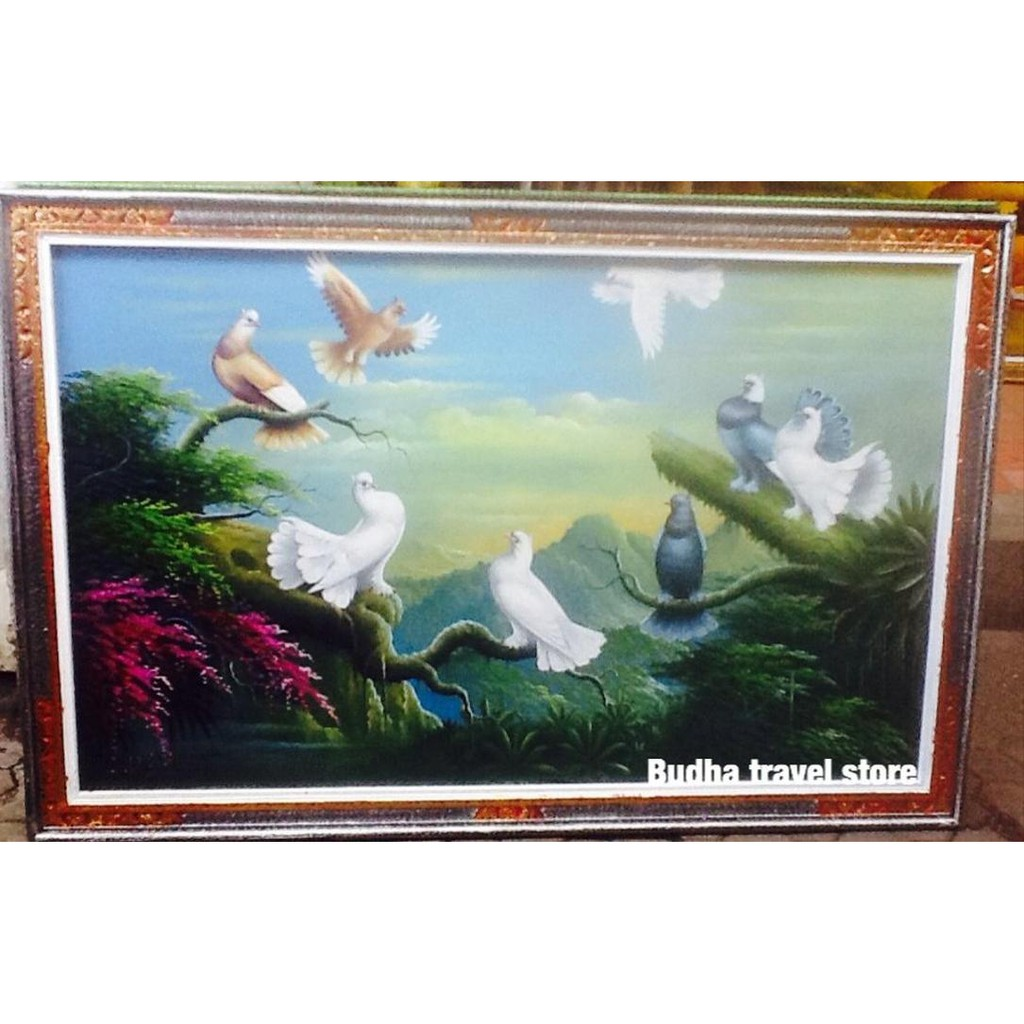lukisan: (6, 199, 984, 828)
